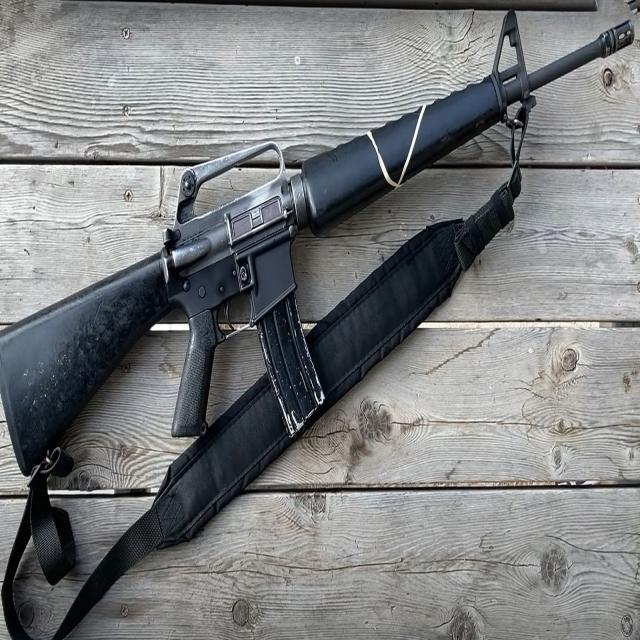m16: (8, 16, 640, 640)
